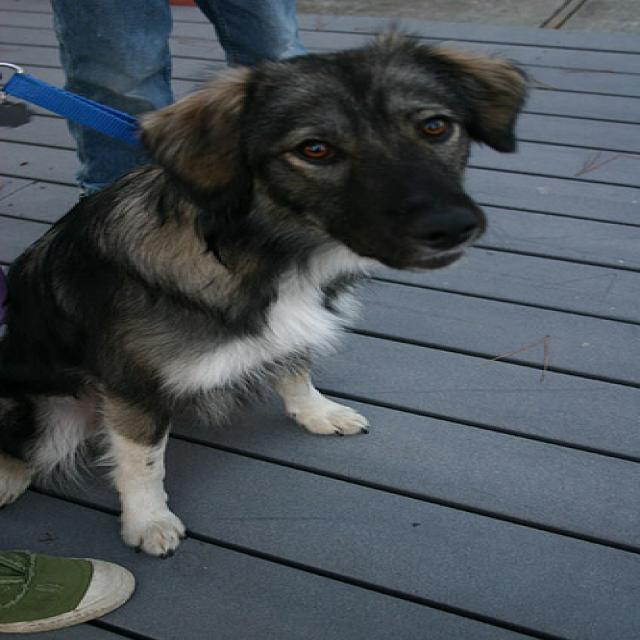dog-keeshond: (2, 27, 542, 559)
